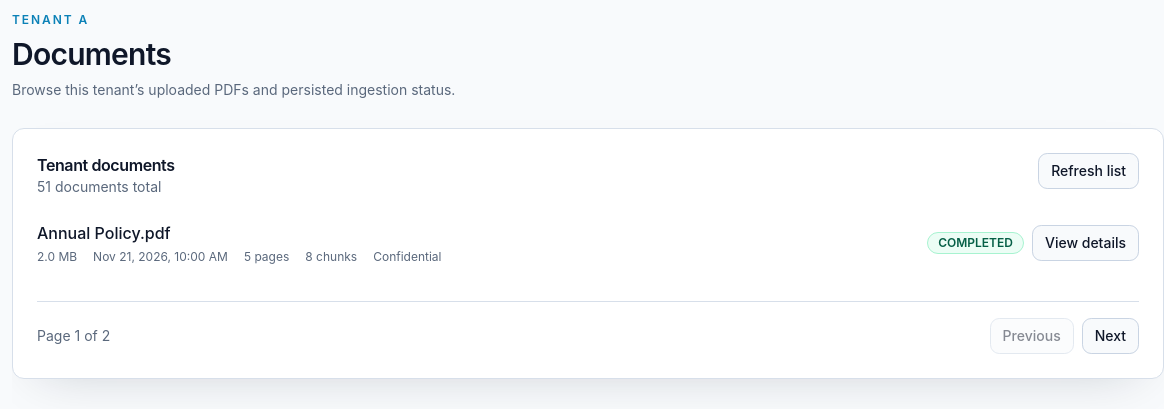
Test: documents workspace › paginates using the backend limit, total and offset
This screenshot has width=1164, height=409.
Expected: the text "Page 1 of 2" is shown, [37, 326, 110, 346]
Click the button "Next" at (1110, 336), box [1082, 318, 1139, 354]
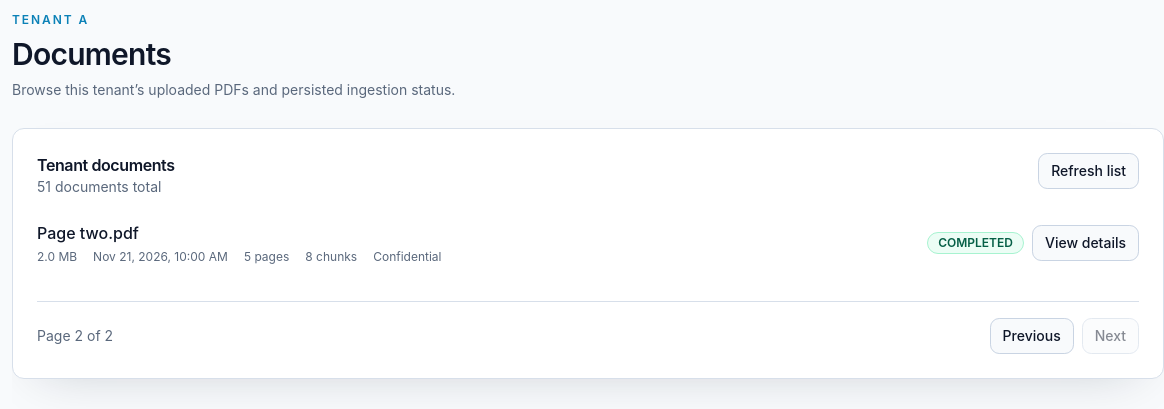
Expected: the heading "Page two.pdf" is shown, [37, 223, 139, 243]
Expected: the text "Page 2 of 2" is shown, [37, 326, 113, 346]
